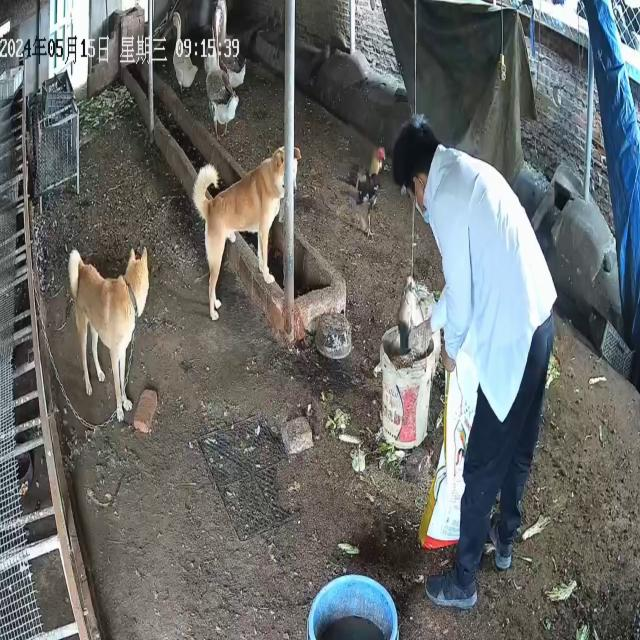dog: (193, 144, 303, 323), (69, 246, 150, 424)
